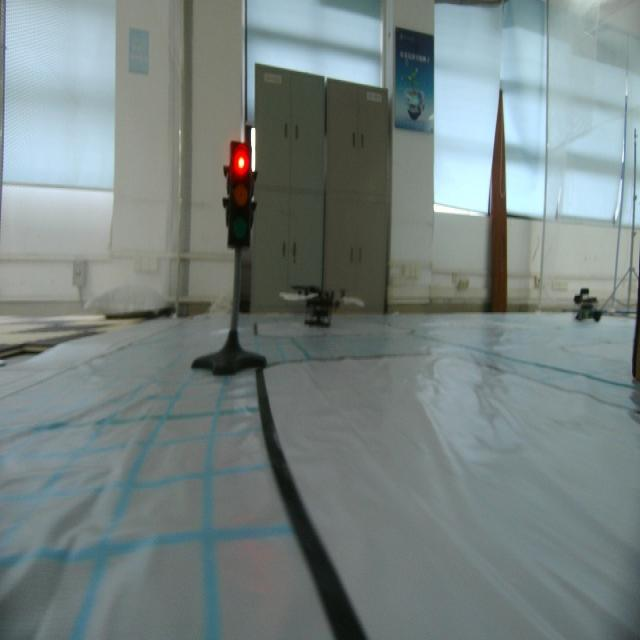red: (220, 136, 260, 255)
